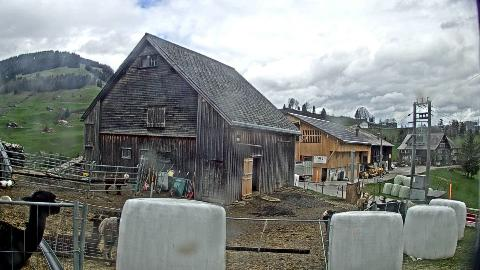car: (390, 164, 394, 170)
sheep: (0, 190, 62, 270), (38, 214, 112, 256), (100, 214, 120, 266), (104, 173, 130, 195), (377, 200, 407, 217), (357, 193, 369, 211), (323, 210, 335, 226), (380, 196, 387, 210), (402, 201, 414, 209)
